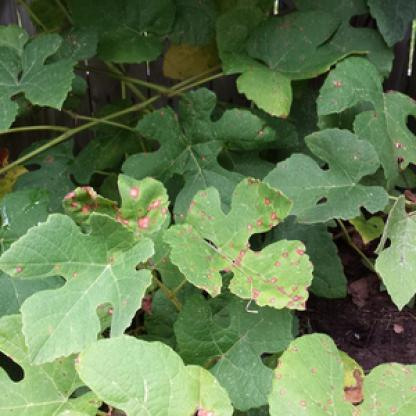grape leaf black rot: (1, 215, 151, 370), (171, 182, 315, 315), (316, 60, 415, 191), (269, 330, 415, 415), (243, 11, 343, 75)
